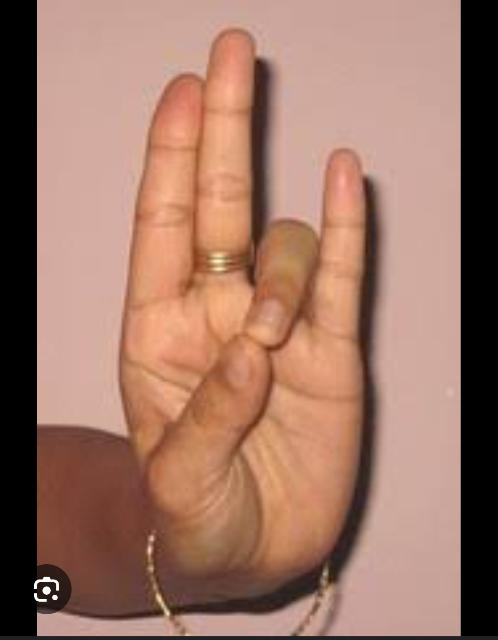mayur: (104, 24, 408, 598), (117, 30, 378, 611)
